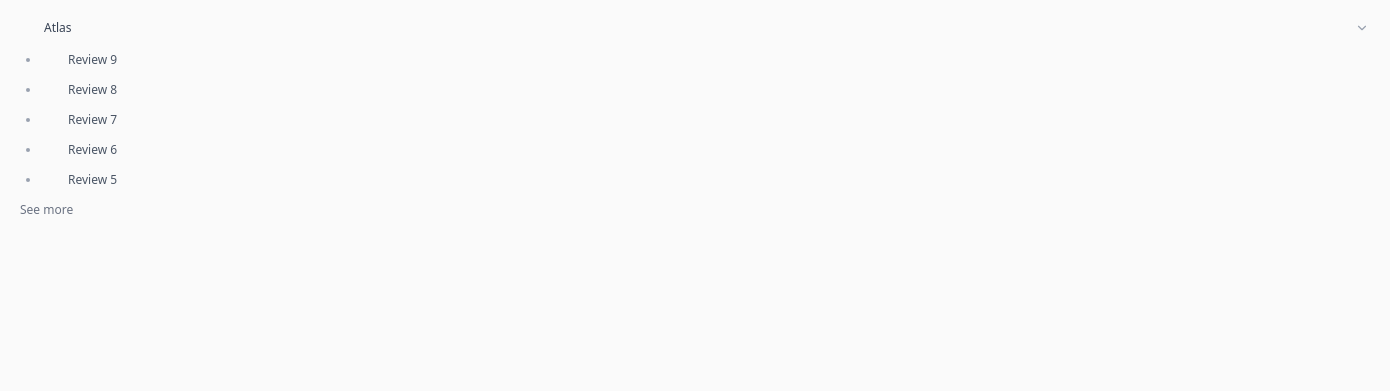
SidebarProjectItem › fetches the next page of reviews when See more needs it
Expected: the link with aria-label "Tabela: Review 9" is shown, [26, 51, 117, 68]
Click the button "See more" at (47, 210), box [12, 196, 1378, 224]
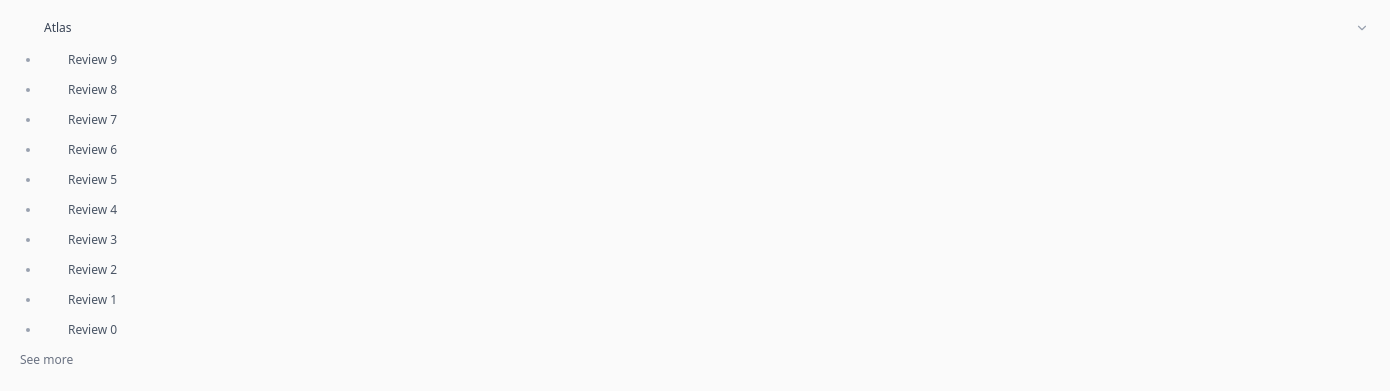
Click the button "See more" at (47, 360), box [12, 346, 1378, 374]
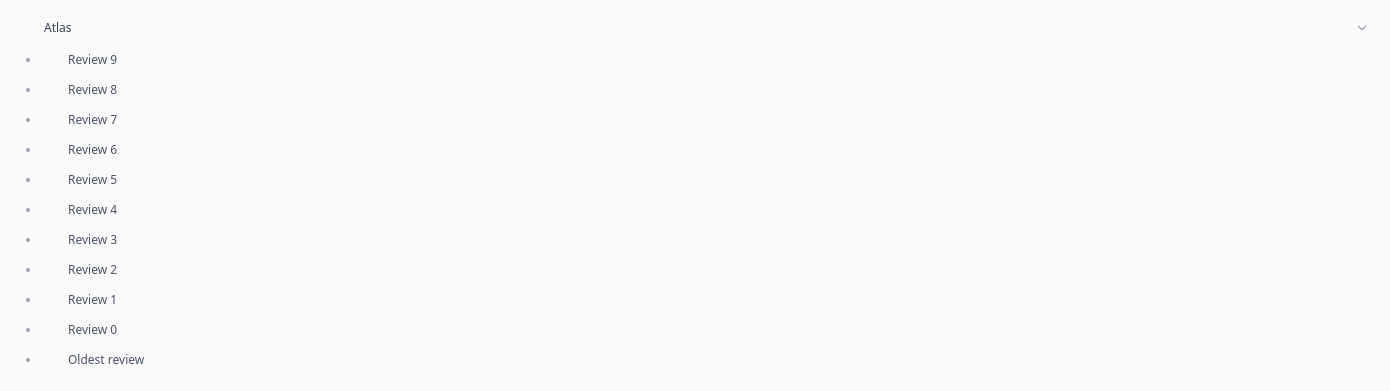
Result: the link with aria-label "Tabela: Oldest review" is shown at [26, 351, 144, 368]
